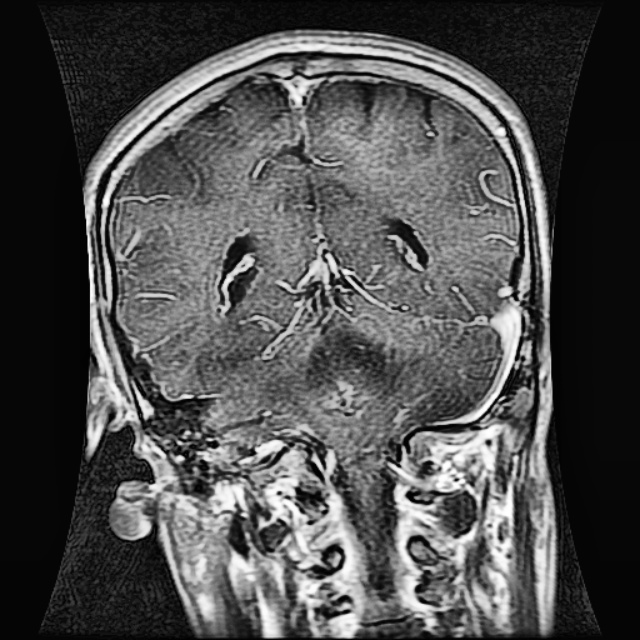Meningioma: (303, 322, 394, 415)
